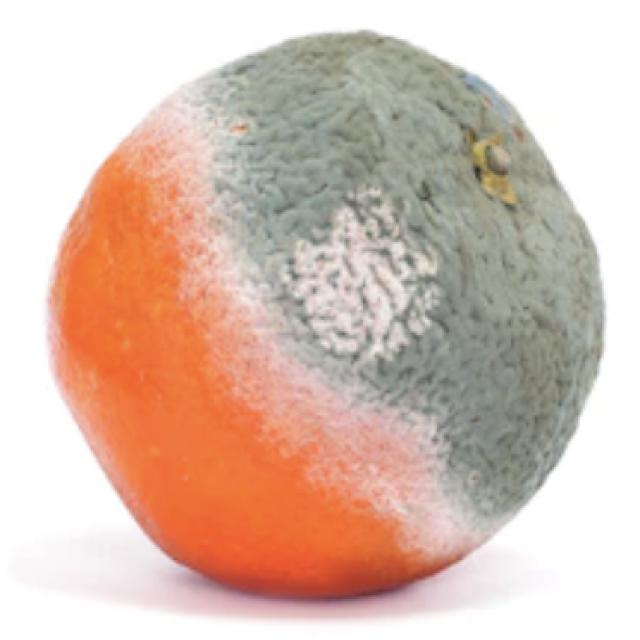rotten-orange: (43, 31, 606, 596)
